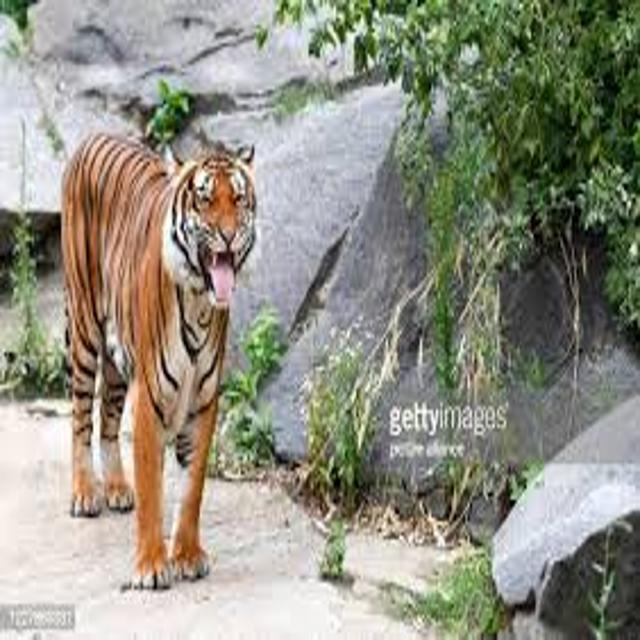Tiger: (41, 117, 262, 612)
